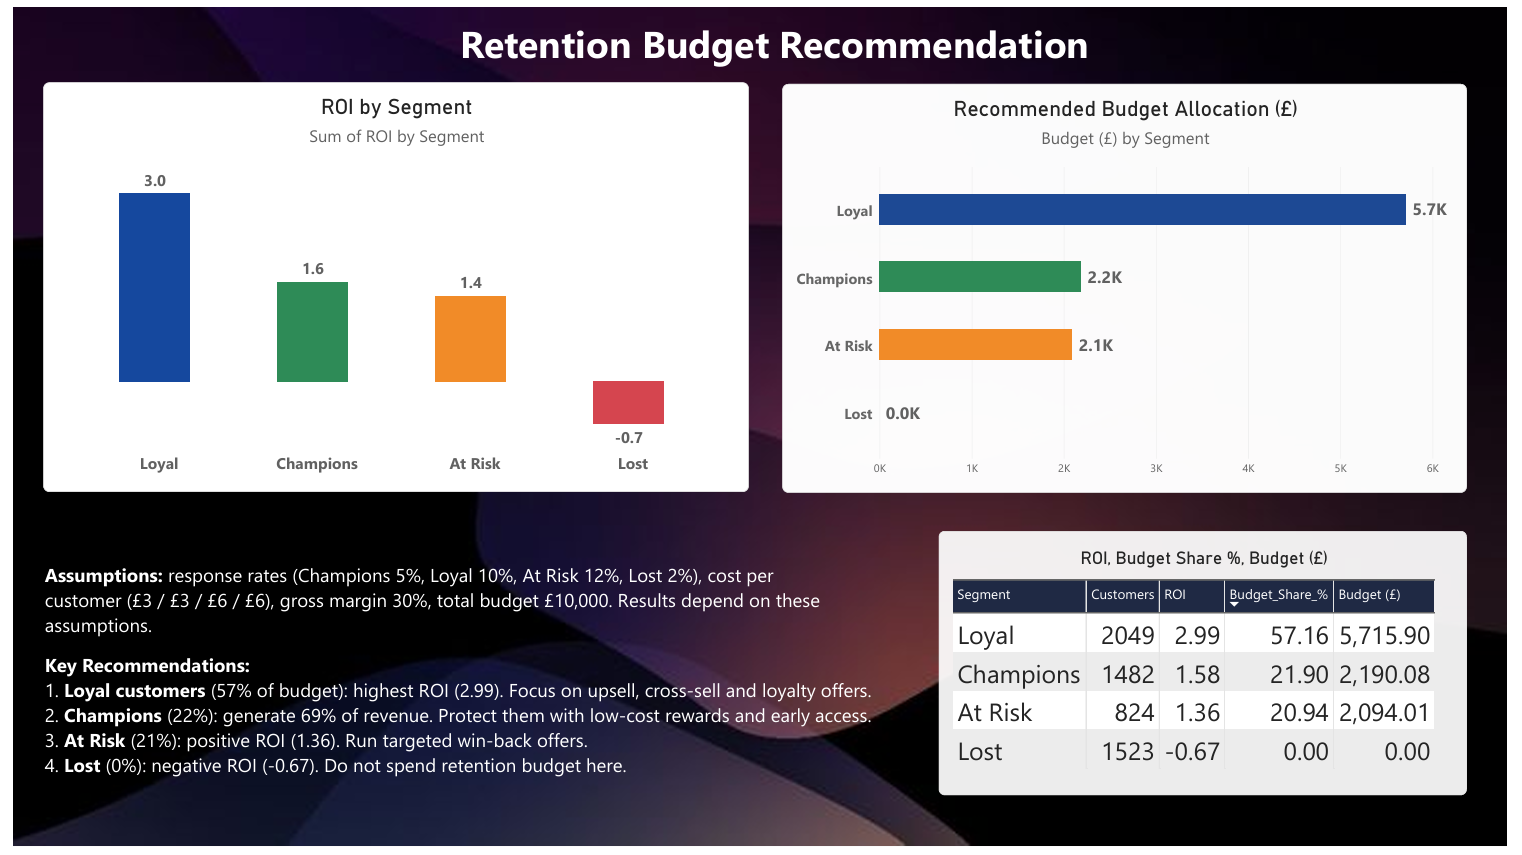

The page's visual inventory and layout, read from the dashboard file:
{"tool":"powerbi","page":{"name":"Budget Recommendation","canvas":[1920,1080],"ordinal":1},"visuals":[{"type":"textbox","box":[492.2,12.7,959.1,83.2],"z":0},{"type":"clusteredColumnChart","title":"ROI by Segment","fields":{"Category":["roi_budget.Segment"],"Y":["Sum(roi_budget.ROI)"]},"box":[38,95.9,906.6,526.6],"z":1000},{"type":"clusteredBarChart","title":"Recommended Budget Allocation (£)","fields":{"Category":["roi_budget.Segment"],"Y":["Sum(roi_budget.Budget_GBP)"]},"box":[988.1,97.7,879.5,526.6],"z":2000},{"type":"tableEx","title":"ROI, Budget Share %, Budget (£)","fields":{"Values":["roi_budget.Segment","Sum(roi_budget.Customers)","Sum(roi_budget.ROI)","Sum(roi_budget.Budget_Share_%)","Sum(roi_budget.Budget_GBP)"]},"box":[1188.9,673.2,678.6,340.2],"z":3000},{"type":"textbox","box":[39.8,828.8,1098.5,213.5],"z":4000},{"type":"textbox","box":[39.8,713,1042.4,115.8],"z":6000}]}

Visuals, with their boxes in screenshot pixels (x1, y1, x2, y2), scaled from the page's 1920x1080 canvas onto the 1522x855 screenshot:
textbox: BBox(390, 10, 1150, 76)
"ROI by Segment" clusteredColumnChart: BBox(30, 76, 749, 493)
"Recommended Budget Allocation (£)" clusteredBarChart: BBox(783, 77, 1480, 494)
"ROI, Budget Share %, Budget (£)" tableEx: BBox(942, 533, 1480, 802)
textbox: BBox(32, 656, 902, 825)
textbox: BBox(32, 564, 858, 656)
